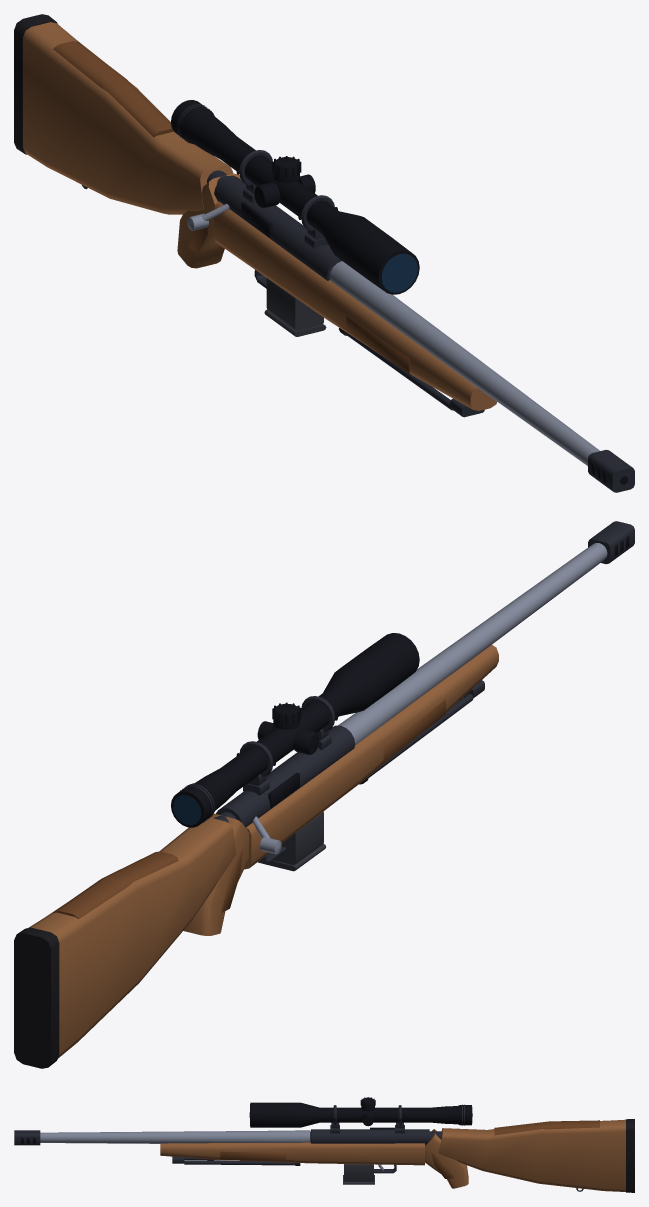
Rendered from sniper.fbx.
The picture shows the model from 3 angles, top to bottom: view 1: azimuth 30°, elevation 25°; view 2: azimuth 150°, elevation 25°; view 3: azimuth 270°, elevation 25°; orthographic projection. The views are drawn at different scales.
Parts seen in each view (by area): view 1: Body.006, Mag.003; view 2: Body.006, Mag.003; view 3: Body.006, Mag.003.
Boxes of the visible parts, x1,y1,x2,y2 form: Body.006: [14, 14, 634, 492]; Mag.003: [264, 278, 326, 336]; Body.006: [14, 521, 634, 1068]; Mag.003: [267, 811, 325, 871]; Body.006: [14, 1097, 634, 1192]; Mag.003: [343, 1164, 374, 1184].
Size of the model in its own units: 8.45 by 20.35 by 124.
